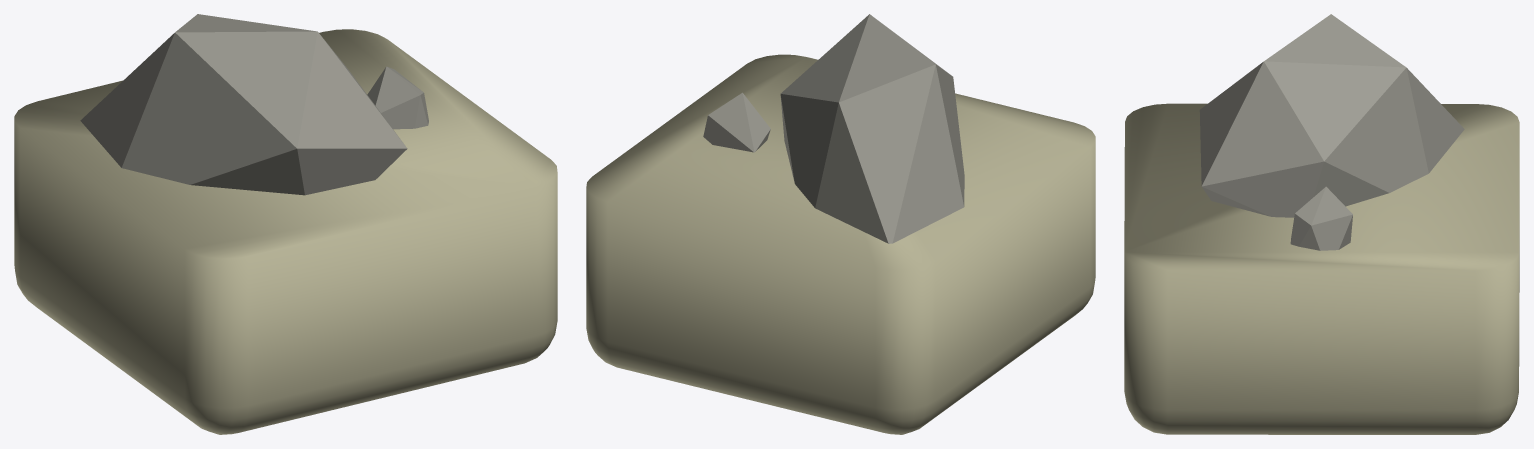
The model's file is pond1.fbx.
The picture shows the model from 3 angles, left to right: view 1: azimuth 30°, elevation 25°; view 2: azimuth 150°, elevation 25°; view 3: azimuth 270°, elevation 25°; orthographic projection. The views are drawn at different scales.
Visible parts, largest first — view 1: Cube.057; view 2: Cube.057; view 3: Cube.057.
Boxes of the visible parts, x1,y1,x2,y2 form: Cube.057: (14,14,557,434); Cube.057: (586,14,1095,434); Cube.057: (1124,14,1519,434).
Size of the model in its own units: 200 by 171 by 200.
